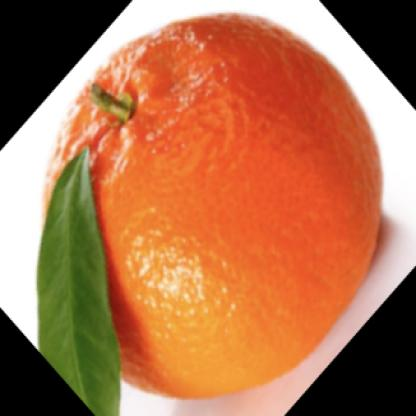fresh: (50, 12, 383, 397)
